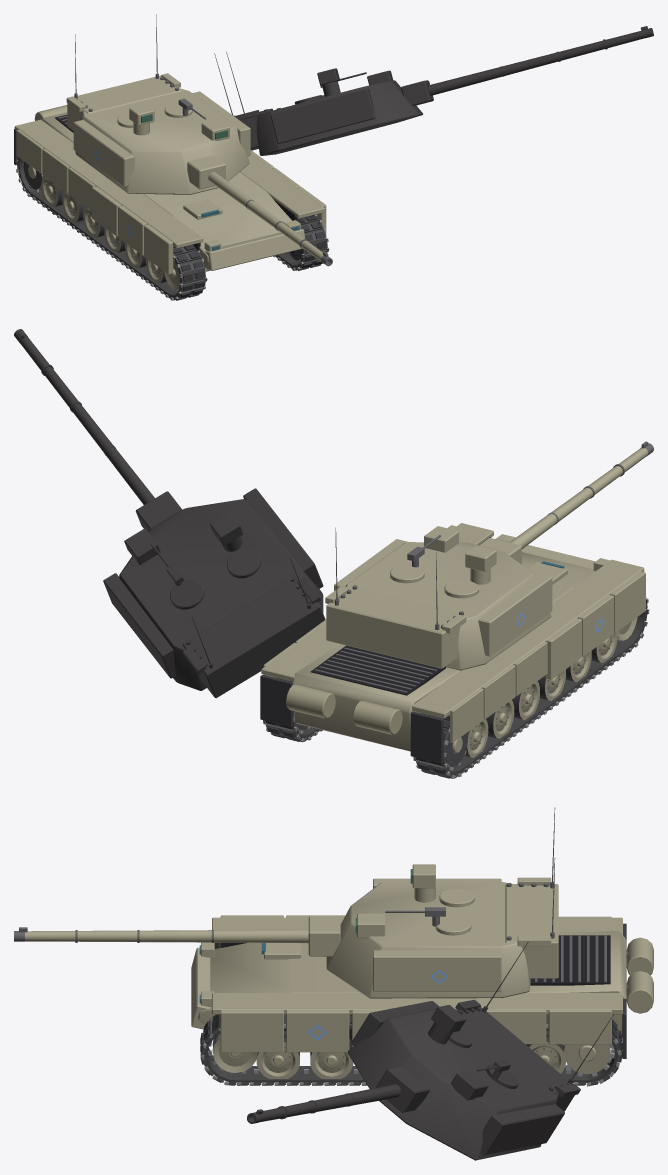
The model's file is tank__leclerc.glb.
The picture shows the model from 3 angles, top to bottom: view 1: azimuth 30°, elevation 25°; view 2: azimuth 150°, elevation 25°; view 3: azimuth 270°, elevation 25°; orthographic projection. The views are drawn at different scales.
Parts seen in each view (by area): view 1: Hull_Mesh, Turret_Mesh, Wreck, Track_L_Mesh, Gun_Mesh, Track_R_Mesh, CITV_Mesh, Gunner_Sight_Mesh, Wheel_L0_Mesh, Wheel_L1_Mesh; view 2: Wreck, Hull_Mesh, Turret_Mesh, Track_L_Mesh, Gun_Mesh, CITV_Mesh, Wheel_L1_Mesh, Wheel_L2_Mesh, Track_R_Mesh, Gunner_Sight_Mesh; view 3: Hull_Mesh, Wreck, Turret_Mesh, Gun_Mesh, Track_R_Mesh, Sprocket_R_Mesh, Wheel_R5_Mesh, Wheel_R4_Mesh, CITV_Mesh, Idler_R_Mesh, Gunner_Sight_Mesh, Wheel_R0_Mesh (+2 smaller).
Boxes of the visible parts, box(x1,y1,x2,y2) form: Hull_Mesh: box(14, 105, 326, 274); Turret_Mesh: box(67, 75, 250, 194); Wreck: box(16, 26, 653, 300); Track_L_Mesh: box(15, 157, 206, 300); Gun_Mesh: box(187, 155, 332, 266); Track_R_Mesh: box(273, 214, 328, 270); CITV_Mesh: box(129, 104, 154, 135); Gunner_Sight_Mesh: box(201, 119, 229, 140); Wheel_L0_Mesh: box(41, 175, 63, 206); Wheel_L1_Mesh: box(62, 191, 84, 222); Wreck: box(14, 329, 648, 775); Hull_Mesh: box(260, 523, 645, 763); Turret_Mesh: box(326, 539, 552, 670); Track_L_Mesh: box(413, 598, 649, 778); Gun_Mesh: box(479, 441, 653, 564); CITV_Mesh: box(465, 545, 496, 584); Wheel_L1_Mesh: box(486, 700, 514, 738); Wheel_L2_Mesh: box(512, 681, 539, 719); Track_R_Mesh: box(263, 677, 322, 742); Gunner_Sight_Mesh: box(424, 526, 458, 552); Hull_Mesh: box(191, 915, 653, 1058); Wreck: box(200, 941, 621, 1160); Turret_Mesh: box(326, 878, 558, 998); Gun_Mesh: box(14, 916, 340, 956); Track_R_Mesh: box(200, 1014, 622, 1086); Sprocket_R_Mesh: box(562, 1044, 614, 1076); Wheel_R5_Mesh: box(256, 1030, 299, 1078); Wheel_R4_Mesh: box(310, 1038, 353, 1078); CITV_Mesh: box(410, 864, 435, 902); Idler_R_Mesh: box(212, 1034, 257, 1072); Gunner_Sight_Mesh: box(355, 913, 385, 938); Wheel_R0_Mesh: box(526, 1030, 565, 1073).
Size of what is drawn, in the model's own units: 11.79 by 3.73 by 10.34.
